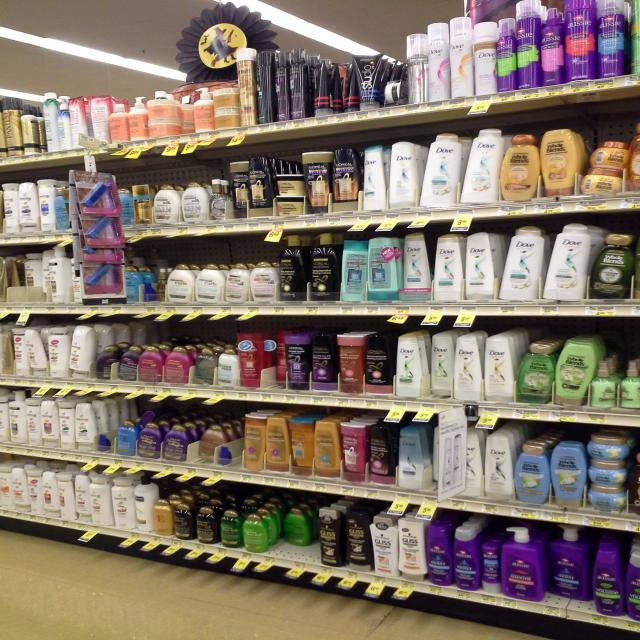empty: (210, 415, 253, 468), (94, 401, 121, 451)
